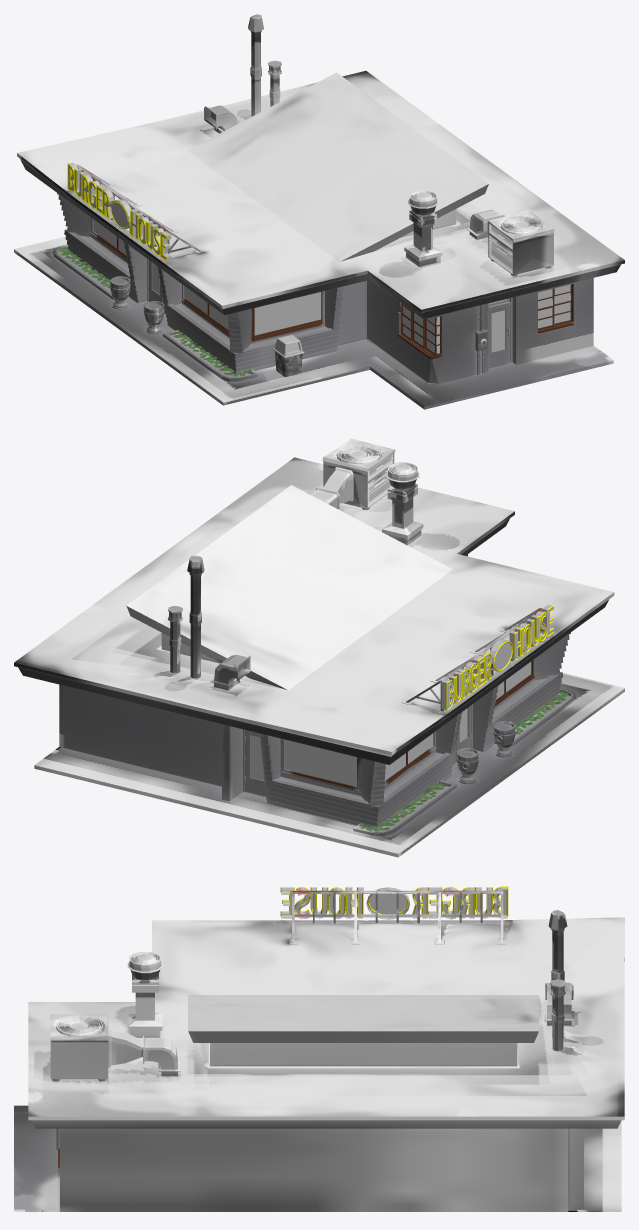
The model's file is BurgerHouse.fbx.
3 views of the same model, one above another, from view 1: azimuth 30°, elevation 25°; view 2: azimuth 150°, elevation 25°; view 3: azimuth 270°, elevation 25° (orthographic). The views are drawn at different scales.
Visible parts, largest first — view 1: SM_Diner_01.mo, SM_Diner_Plants_01.mo, SM_TrashCan_01.mo; view 2: SM_Diner_01.mo, SM_Diner_Plants_01.mo; view 3: SM_Diner_01.mo.
Boxes of the visible parts, x1,y1,x2,y2 form: SM_Diner_01.mo: (14,14,624,409); SM_Diner_Plants_01.mo: (58,246,251,376); SM_TrashCan_01.mo: (273,335,304,376); SM_Diner_01.mo: (14,438,624,857); SM_Diner_Plants_01.mo: (359,690,568,831); SM_Diner_01.mo: (14,886,624,1211).
Bounding box in the file's own units: 1333 × 734 × 1733.
